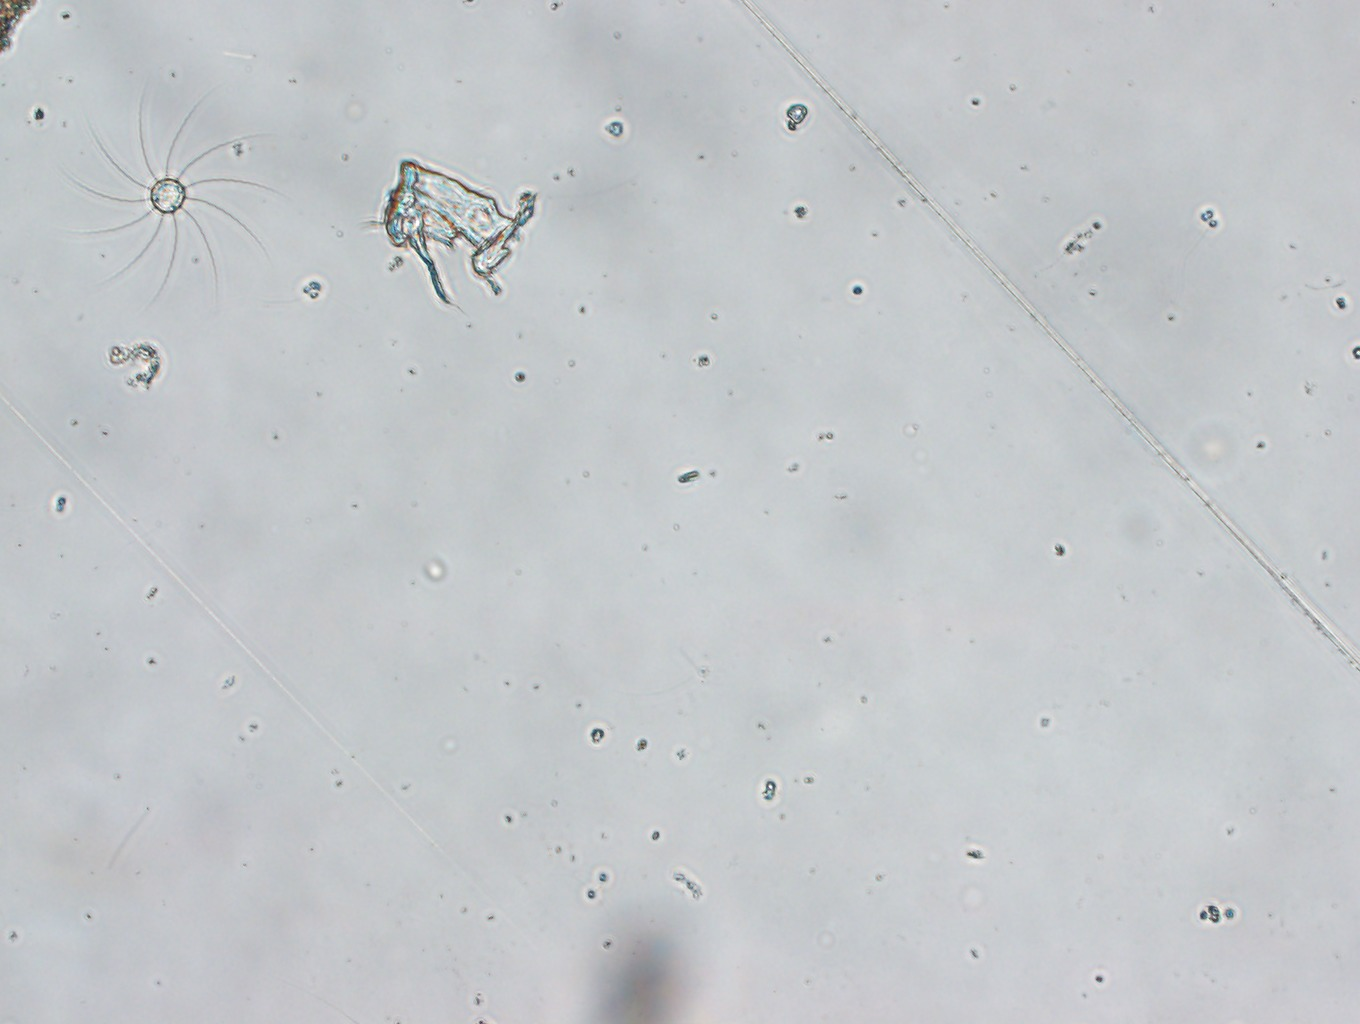bacteriastrum: (66, 87, 271, 318)
